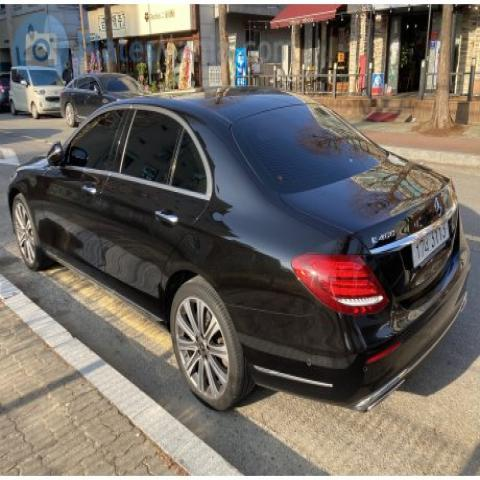LP: (406, 213, 458, 274)
